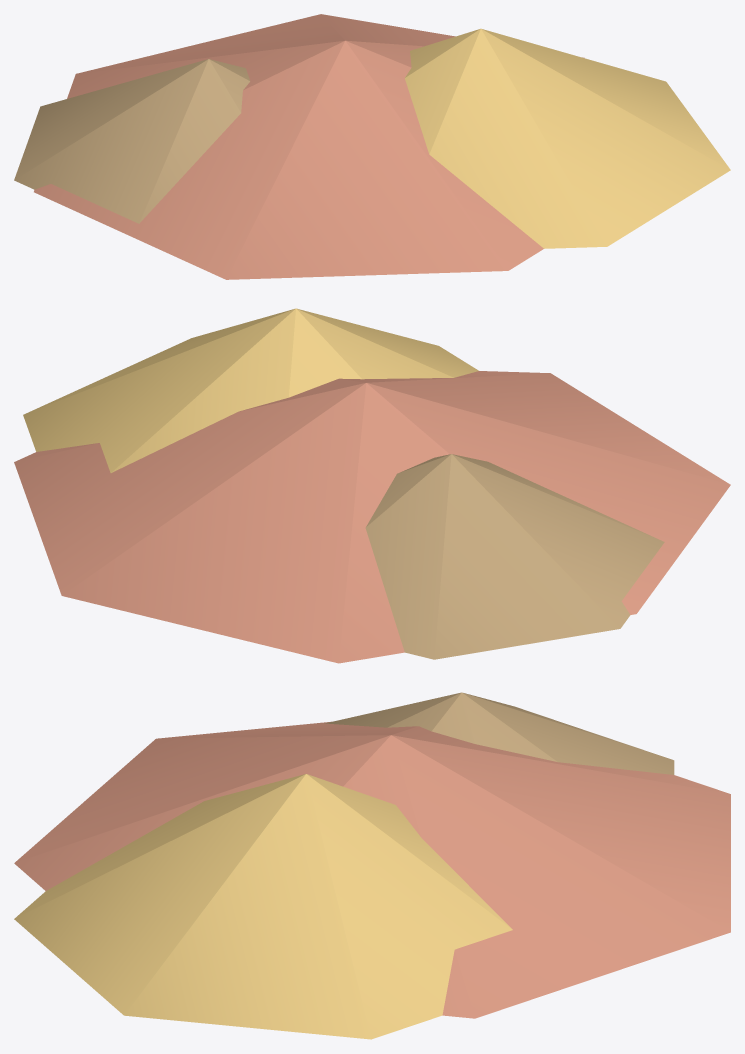
The model's file is leaf-pile.gltf.
The picture shows the model from 3 angles, top to bottom: view 1: azimuth 30°, elevation 25°; view 2: azimuth 150°, elevation 25°; view 3: azimuth 270°, elevation 25°; orthographic projection. The views are drawn at different scales.
Visible parts, largest first — view 1: LeavesRed, LeavesGold, LeavesBrown; view 2: LeavesRed, LeavesBrown, LeavesGold; view 3: LeavesRed, LeavesGold, LeavesBrown.
Part boxes in pixels (bbox=[...]): LeavesRed: bbox=[34, 14, 584, 279]; LeavesGold: bbox=[404, 28, 730, 248]; LeavesBrown: bbox=[14, 59, 250, 223]; LeavesRed: bbox=[14, 371, 730, 663]; LeavesBrown: bbox=[365, 454, 664, 659]; LeavesGold: bbox=[23, 308, 478, 472]; LeavesRed: bbox=[14, 721, 730, 1018]; LeavesGold: bbox=[14, 774, 512, 1039]; LeavesBrown: bbox=[324, 692, 674, 774].
Bounding box in the file's own units: 1.67 × 0.34 × 1.52.
